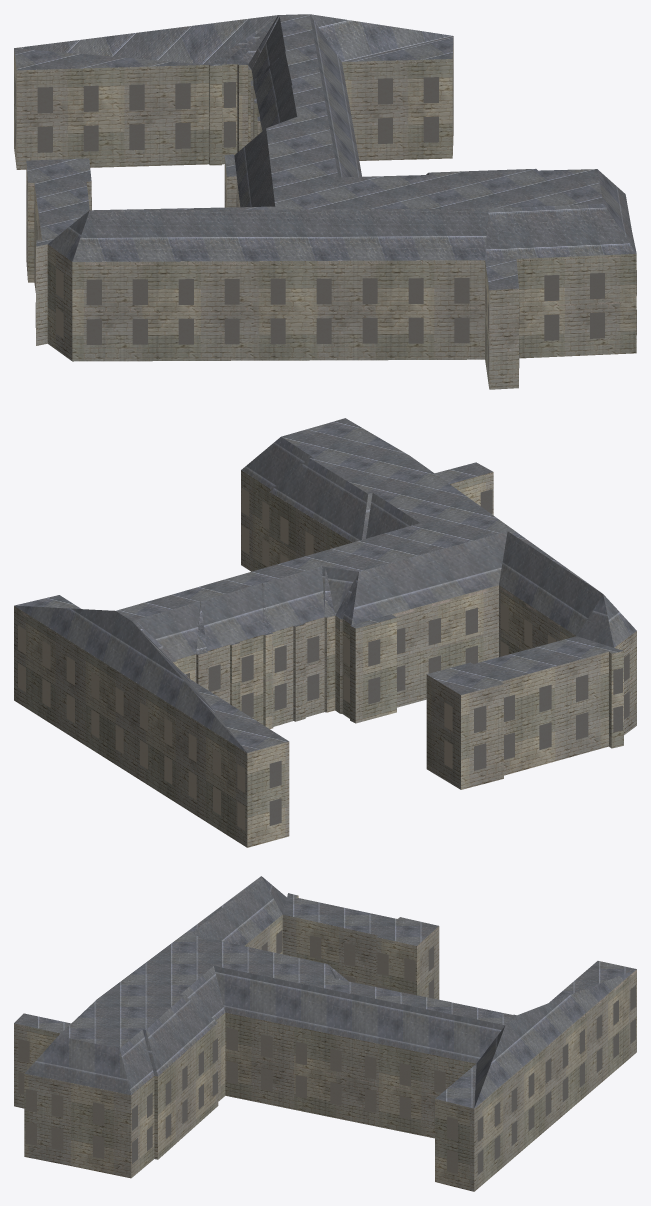
Rendered from hotel-de-lamoignon.glb.
3 views of the same model, one above another, from view 1: azimuth 30°, elevation 25°; view 2: azimuth 150°, elevation 25°; view 3: azimuth 270°, elevation 25° (orthographic). The views are drawn at different scales.
Parts seen in each view (by area): view 1: stone, roof, window, trim; view 2: stone, roof, window, trim; view 3: stone, roof, window, trim.
Part boxes in pixels (x1=…): stone: x1=14, y1=36, x2=636, y2=389; roof: x1=14, y1=14, x2=636, y2=290; window: x1=15, y1=65, x2=636, y2=371; trim: x1=14, y1=37, x2=636, y2=338; stone: x1=14, y1=470, x2=636, y2=847; roof: x1=14, y1=418, x2=636, y2=752; window: x1=18, y1=487, x2=629, y2=830; trim: x1=14, y1=472, x2=636, y2=798; stone: x1=14, y1=896, x2=636, y2=1191; roof: x1=14, y1=876, x2=636, y2=1108; window: x1=18, y1=930, x2=635, y2=1174; trim: x1=14, y1=915, x2=636, y2=1148.
Bounding box in the file's own units: 60.05 × 15 × 73.3.
Materials: 4 (4 with a texture image).
